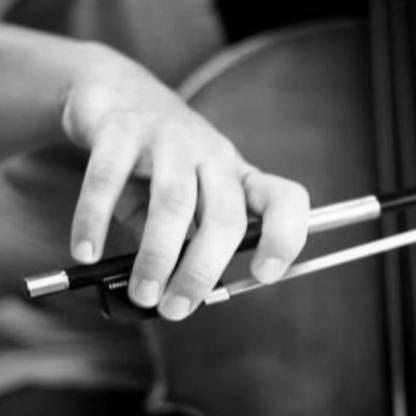bad: (51, 98, 311, 327)
